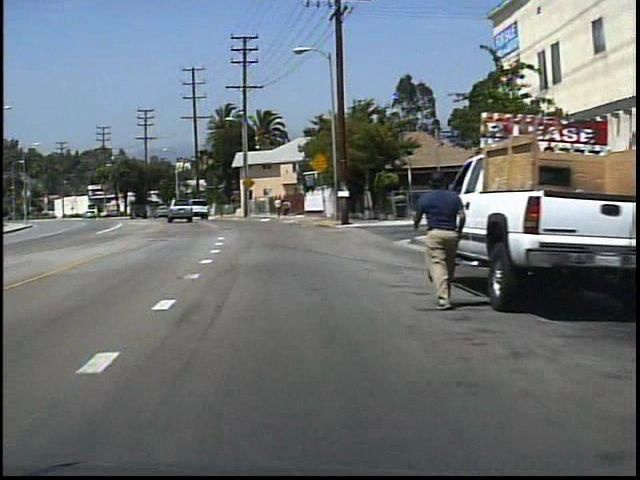person: (405, 167, 462, 310), (273, 195, 283, 220), (281, 198, 291, 219)
